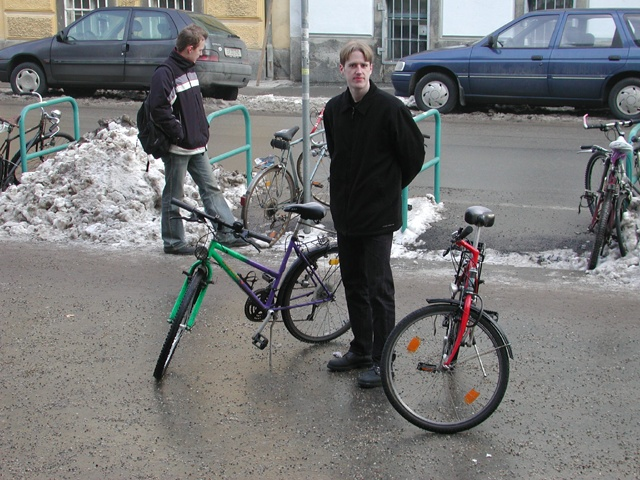person: (319, 40, 411, 385), (144, 25, 219, 254)
